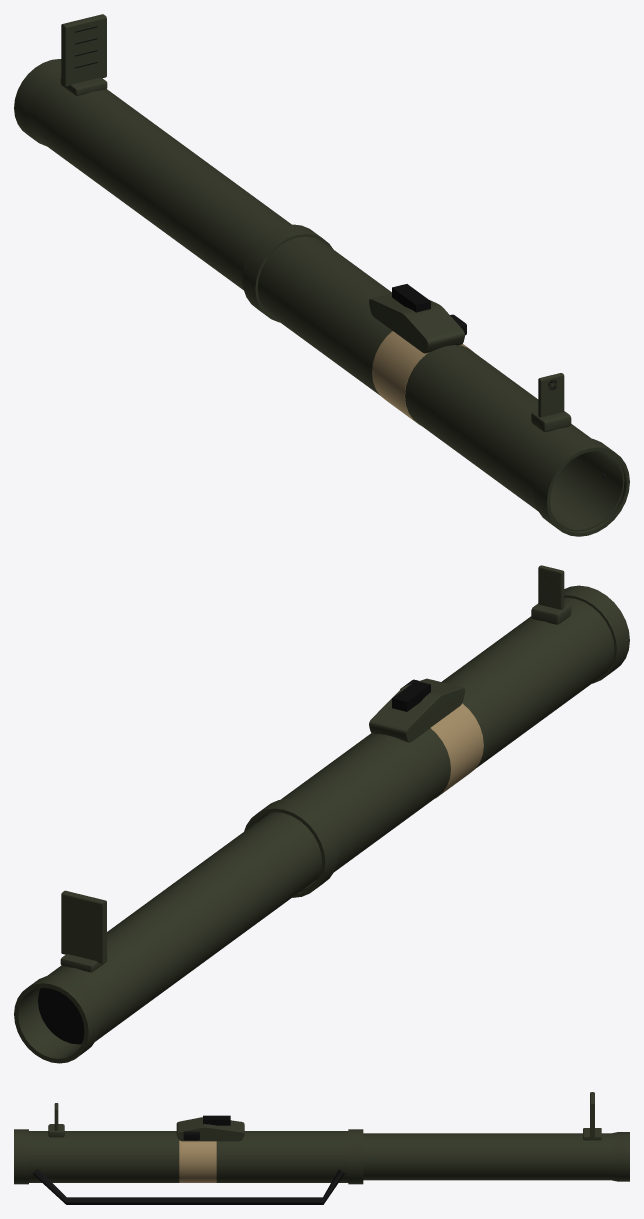
File: weapon_m72_law.glb
3 renders of one model, top to bottom at view 1: azimuth 30°, elevation 25°; view 2: azimuth 150°, elevation 25°; view 3: azimuth 270°, elevation 25°, orthographic. The views are drawn at different scales.
Visible parts, largest first — view 1: weapon_m72_law_LOD0, weapon_m72_law_FrontTube_LOD0, weapon_m72_law_FrontSight_LOD0, weapon_m72_law_RearSight_LOD0; view 2: weapon_m72_law_LOD0, weapon_m72_law_FrontTube_LOD0, weapon_m72_law_FrontSight_LOD0, weapon_m72_law_RearSight_LOD0; view 3: weapon_m72_law_LOD0, weapon_m72_law_FrontTube_LOD0, weapon_m72_law_FrontSight_LOD0, weapon_m72_law_RearSight_LOD0.
Part boxes in pixels (<box>): weapon_m72_law_LOD0: <box>242,224,629,536</box>; weapon_m72_law_FrontTube_LOD0: <box>14,59,291,289</box>; weapon_m72_law_FrontSight_LOD0: <box>60,14,107,95</box>; weapon_m72_law_RearSight_LOD0: <box>531,373,571,431</box>; weapon_m72_law_LOD0: <box>244,585,629,897</box>; weapon_m72_law_FrontTube_LOD0: <box>14,812,321,1063</box>; weapon_m72_law_FrontSight_LOD0: <box>60,890,107,972</box>; weapon_m72_law_RearSight_LOD0: <box>531,565,571,624</box>; weapon_m72_law_LOD0: <box>14,1115,363,1204</box>; weapon_m72_law_FrontTube_LOD0: <box>363,1132,629,1181</box>; weapon_m72_law_FrontSight_LOD0: <box>583,1092,601,1140</box>; weapon_m72_law_RearSight_LOD0: <box>48,1103,64,1137</box>.
Size of what is drawn, in the model's own units: 0.11 by 0.1592 by 0.984.
